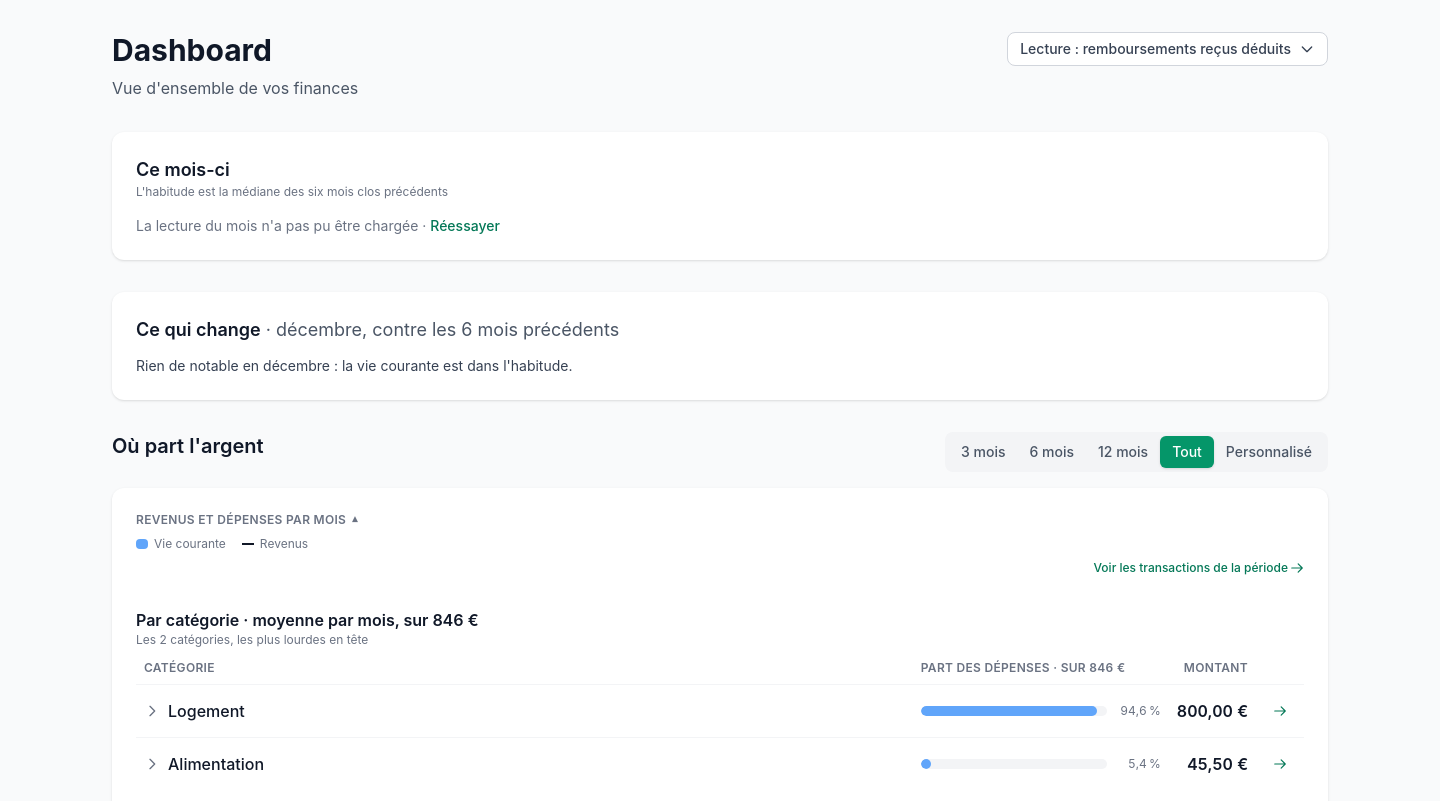
Test: DashboardPage › Ce mois-ci › keeps its failure inside the band, with a retry, the page standing
Expected: the message "La lecture du mois n'a pas pu être chargée · Réessayer" is shown, [136,216,500,236]
Click the button with test id "month-retry".
click(465, 226)  # box [430,216,500,236]
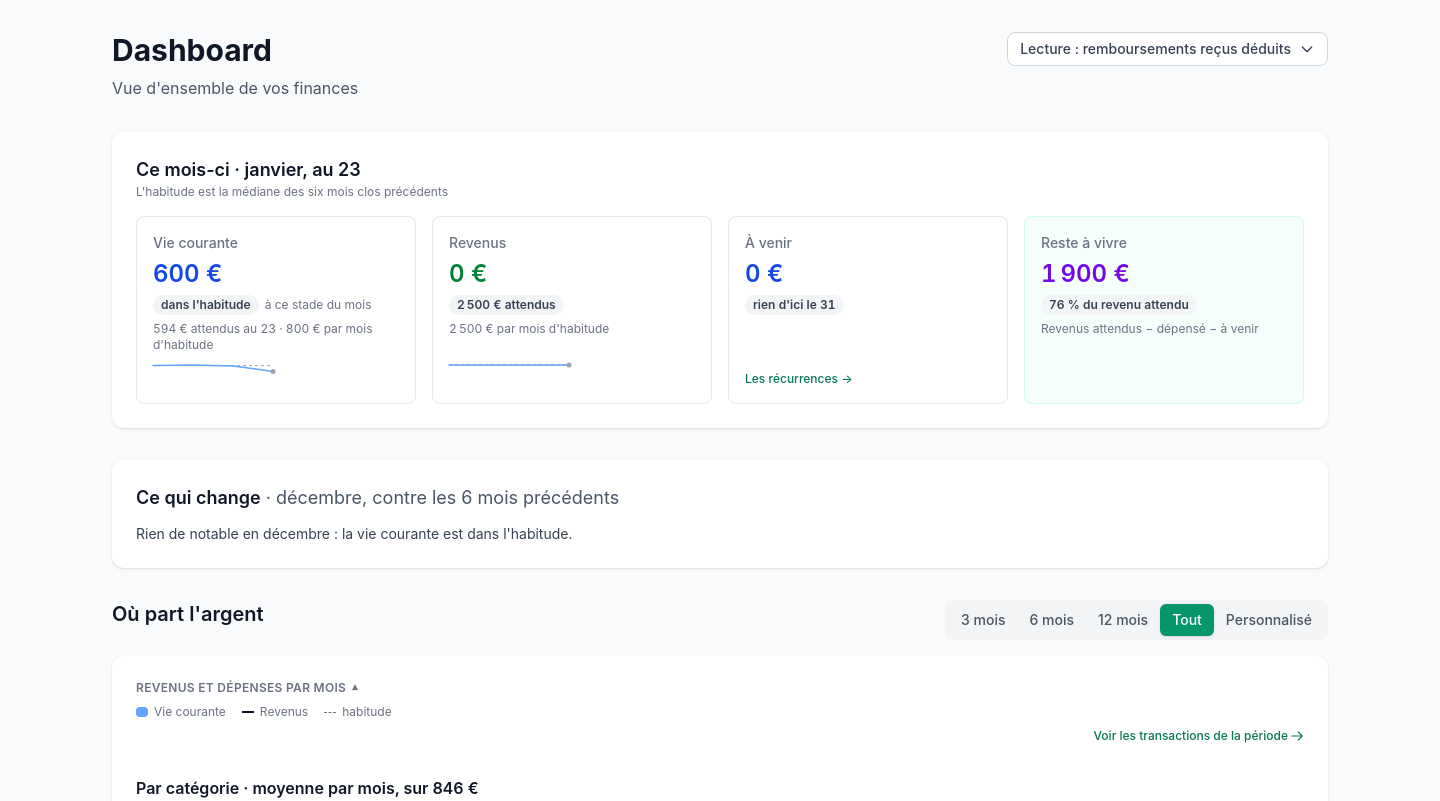
Now the element with test id "month-tile-spent" is shown, box [136,216,416,404]
